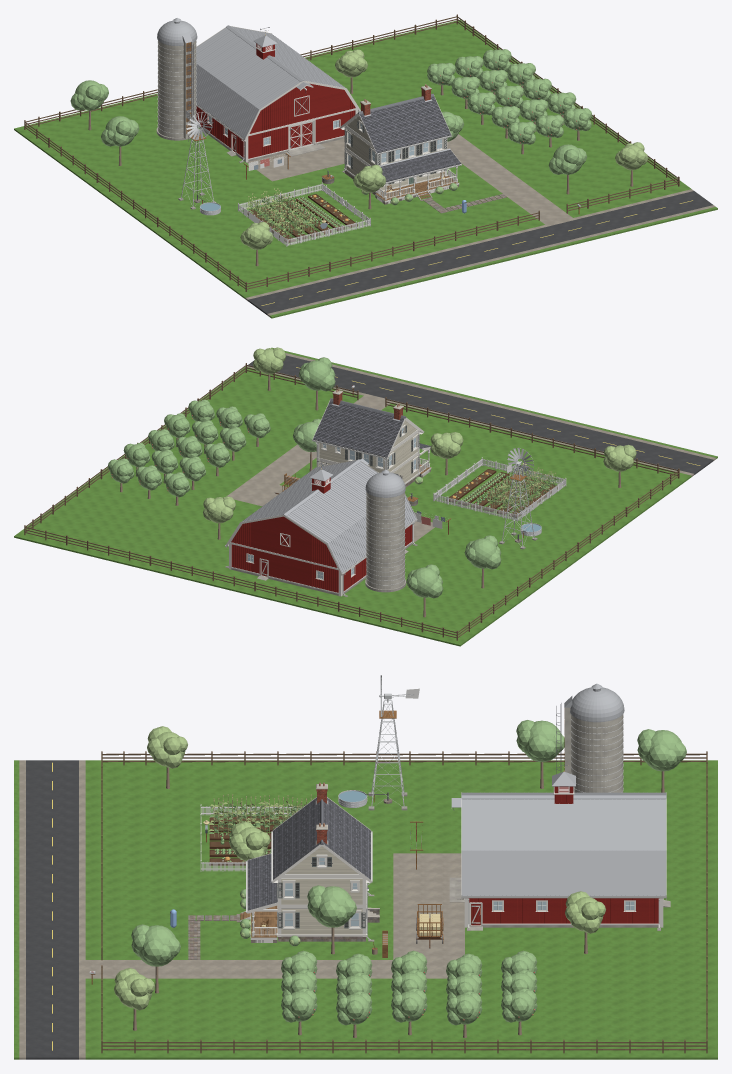
Rendered from building_assembled.glb.
3 renders of one model, top to bottom at view 1: azimuth 30°, elevation 25°; view 2: azimuth 150°, elevation 25°; view 3: azimuth 270°, elevation 25°, orthographic. The views are drawn at different scales.
Visible parts, largest first — view 1: geometry_946, geometry_944, geometry_943, geometry_297, geometry_930, geometry_655, geometry_951, geometry_952, geometry_327, geometry_698, geometry_935, geometry_950 (+35 smaller); view 2: geometry_946, geometry_944, geometry_943, geometry_930, geometry_303, geometry_661, geometry_952, geometry_935, geometry_951, geometry_666, geometry_670, geometry_674 (+27 smaller); view 3: geometry_946, geometry_944, geometry_943, geometry_930, geometry_666, geometry_698, geometry_670, geometry_674, geometry_686, geometry_690, geometry_694, geometry_297 (+37 smaller).
Boxes of the visible parts, <box> form: geometry_946: <box>14,19,717,318</box>; geometry_944: <box>248,191,712,314</box>; geometry_943: <box>245,134,715,316</box>; geometry_297: <box>359,96,450,153</box>; geometry_930: <box>158,40,196,138</box>; geometry_655: <box>249,83,355,133</box>; geometry_951: <box>246,190,319,238</box>; geometry_952: <box>247,194,341,237</box>; geometry_327: <box>381,150,461,181</box>; geometry_698: <box>236,73,345,139</box>; geometry_935: <box>181,111,213,207</box>; geometry_950: <box>247,194,355,241</box>; geometry_946: <box>14,347,717,646</box>; geometry_944: <box>248,355,713,474</box>; geometry_943: <box>226,353,715,542</box>; geometry_930: <box>366,492,404,589</box>; geometry_303: <box>313,400,404,457</box>; geometry_661: <box>231,516,337,567</box>; geometry_952: <box>462,471,559,511</box>; geometry_935: <box>501,448,534,547</box>; geometry_951: <box>486,466,556,513</box>; geometry_666: <box>242,507,350,573</box>; geometry_670: <box>250,501,358,566</box>; geometry_674: <box>258,495,366,560</box>; geometry_946: <box>14,760,717,1059</box>; geometry_944: <box>26,760,78,1059</box>; geometry_943: <box>19,760,464,1059</box>; geometry_930: <box>565,707,623,792</box>; geometry_666: <box>641,792,666,896</box>; geometry_698: <box>461,792,486,896</box>; geometry_670: <box>619,792,640,896</box>; geometry_674: <box>597,792,618,896</box>; geometry_686: <box>531,792,552,896</box>; geometry_690: <box>509,792,530,896</box>; geometry_694: <box>487,792,508,896</box>; geometry_297: <box>273,797,319,879</box>.
Size of the model in its own units: 64 by 15.95 by 64.
Materials: 60 (20 with a texture image).
